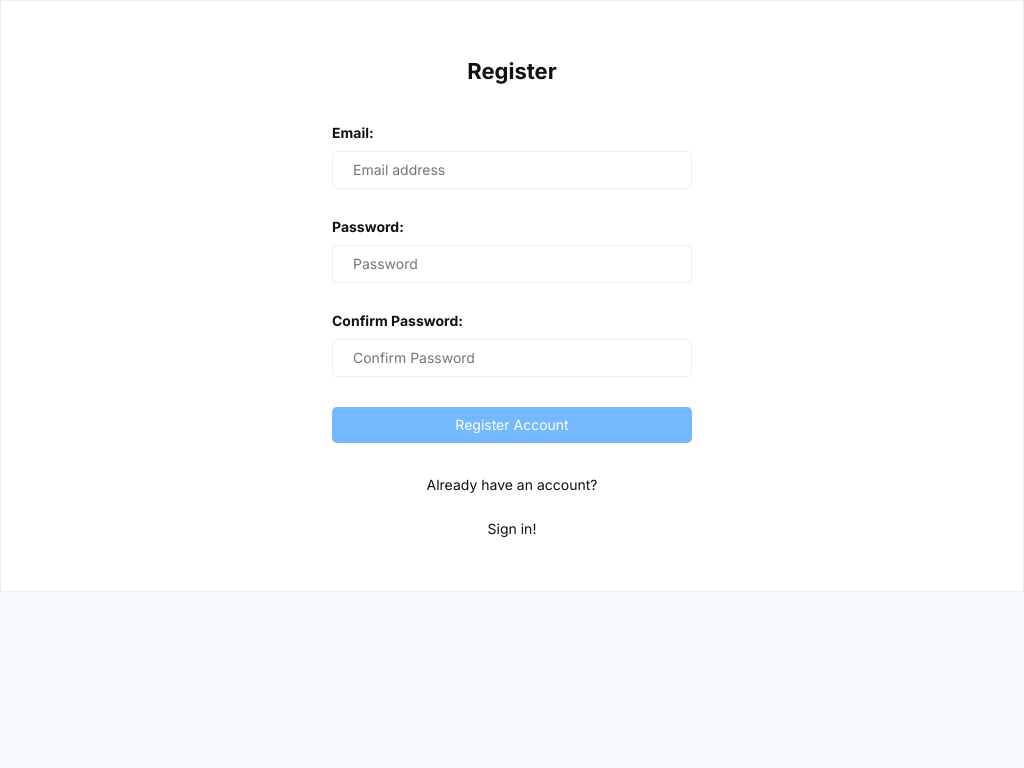
it: AuthForm - Register variant › Shows password error warning if submitted in invalid state
The image size is (1024, 768).
Type "test@test.com" into the field labelled "Email:".
click(512, 170); type("test@test.com")  # box [332,151,692,189]
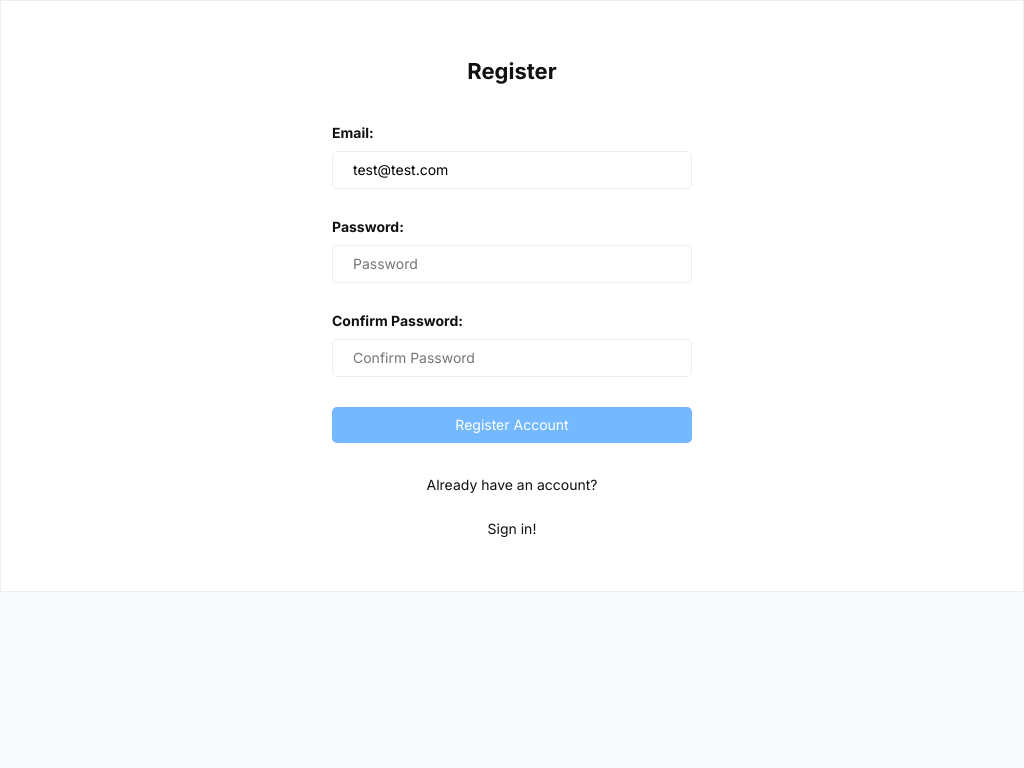
Type "testing123" into the password field labelled "Confirm Password:".
click(512, 358); type("testing123")  # box [332,339,692,377]
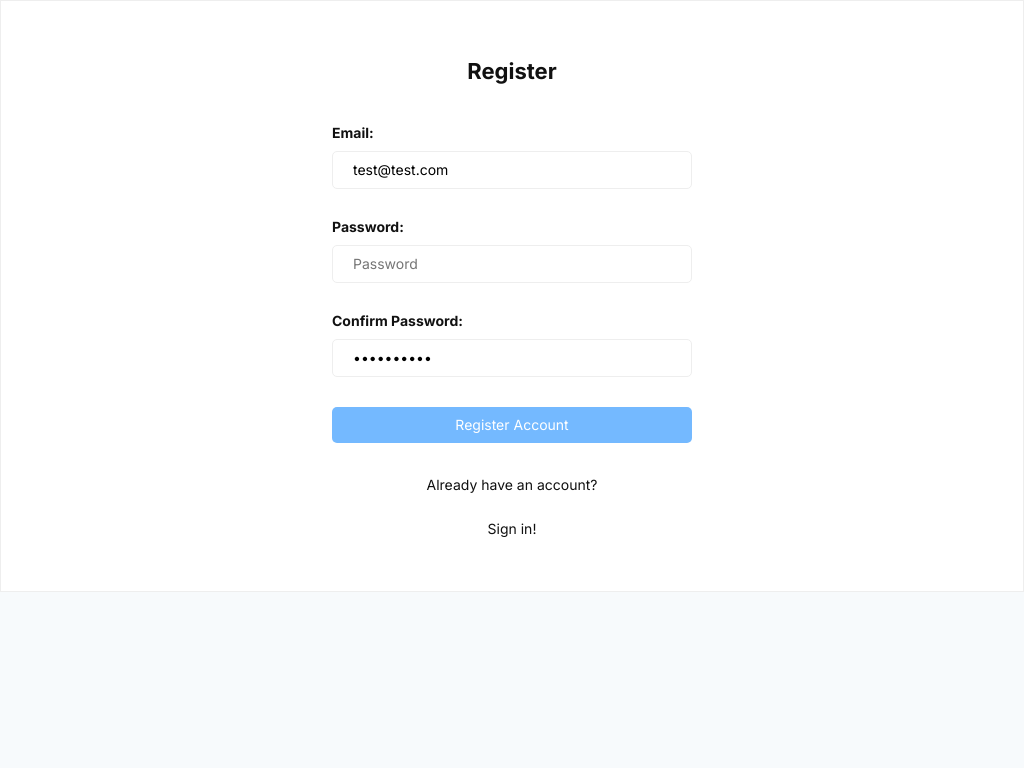
Click the button "Register Account".
click(512, 425)  # box [332,407,692,443]
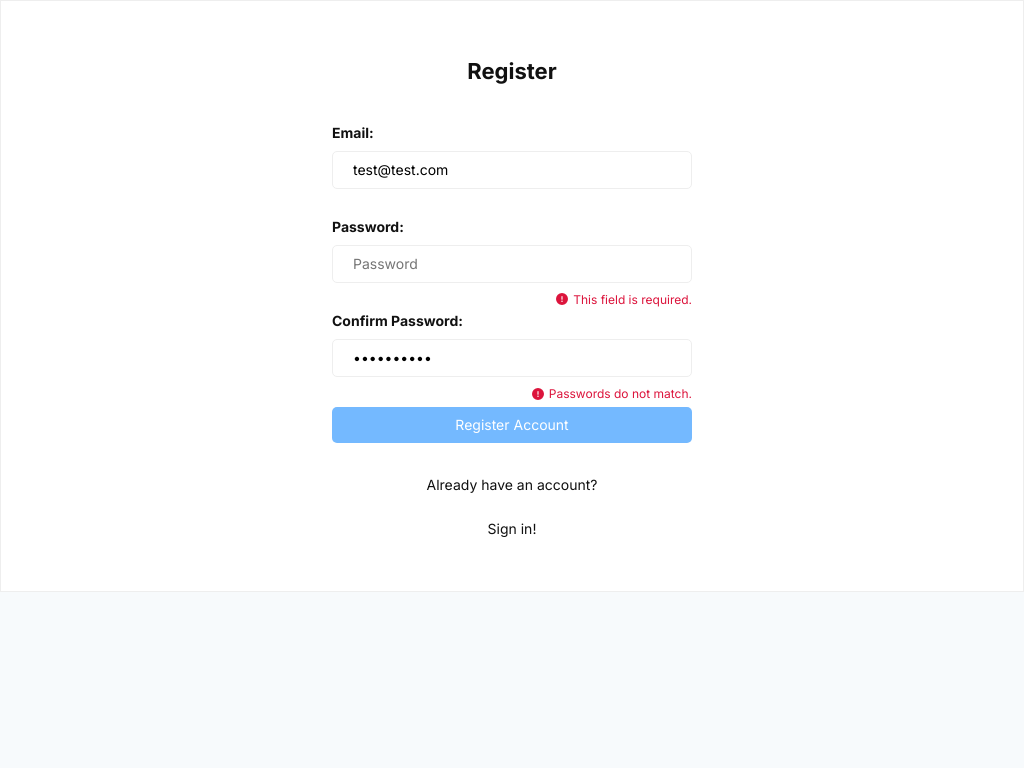
Result: the text "This field is required." is shown at [556,292,692,306]
